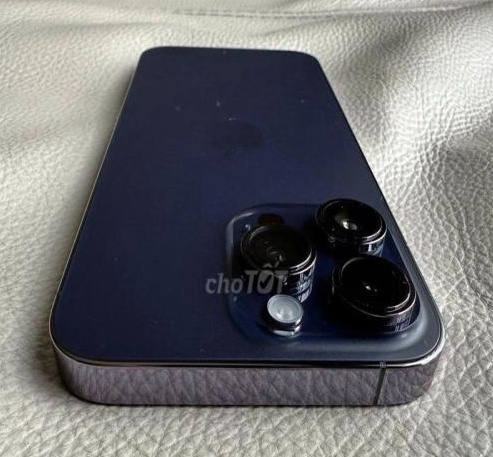scratch: (208, 88, 247, 126), (292, 81, 311, 122), (169, 90, 183, 115), (218, 42, 230, 58)
